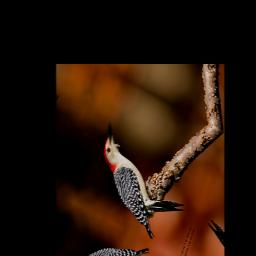Woodpecker: (82, 121, 199, 252)
